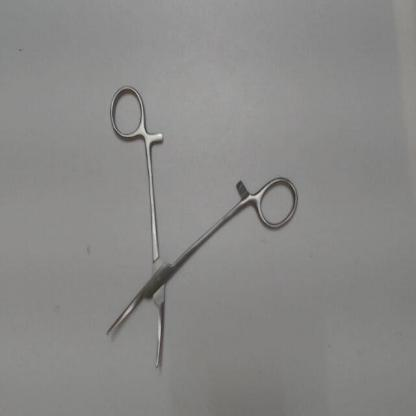Crile Artery Forceps: (101, 78, 302, 376)
